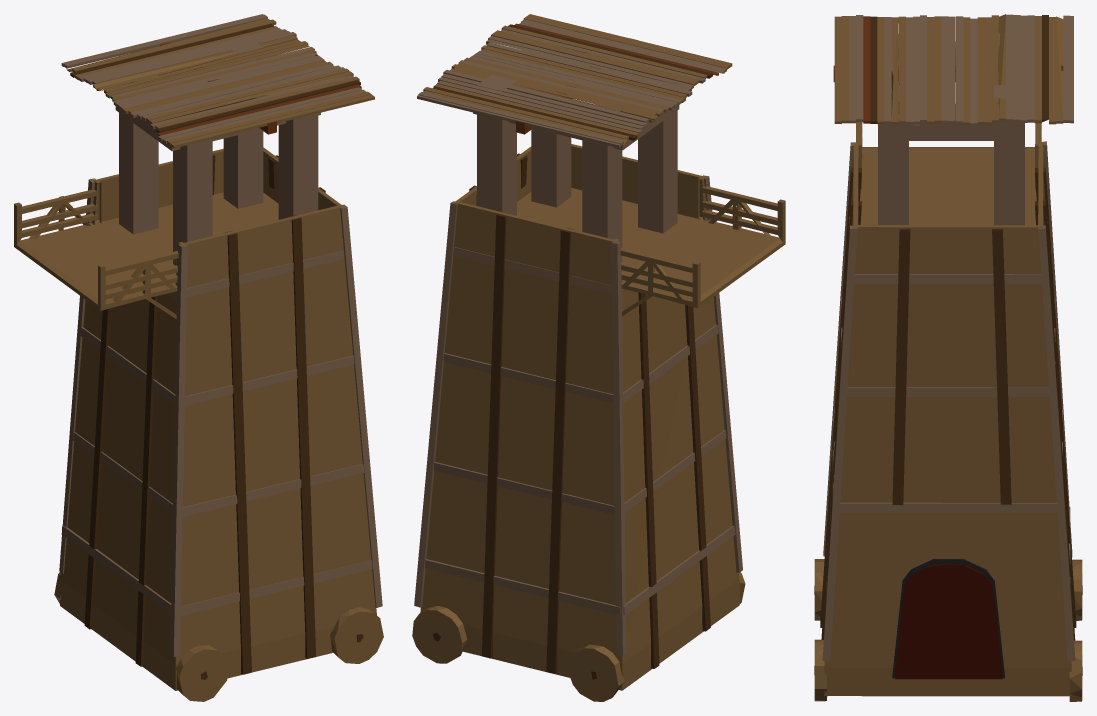
Rendered from siege-tower.zfix-v14.lod1.glb.
3 views of the same model, side by side, from view 1: azimuth 30°, elevation 25°; view 2: azimuth 150°, elevation 25°; view 3: azimuth 270°, elevation 25° (orthographic). The views are drawn at different scales.
Parts seen in each view (by area): view 1: Object_2; view 2: Object_2; view 3: Object_2.
Boxes of the visible parts, x1,y1,x2,y2 form: Object_2: (14,14,383,701); Object_2: (412,14,785,701); Object_2: (814,14,1082,701).
Size of the model in its own units: 7.6 by 15.01 by 6.15.
